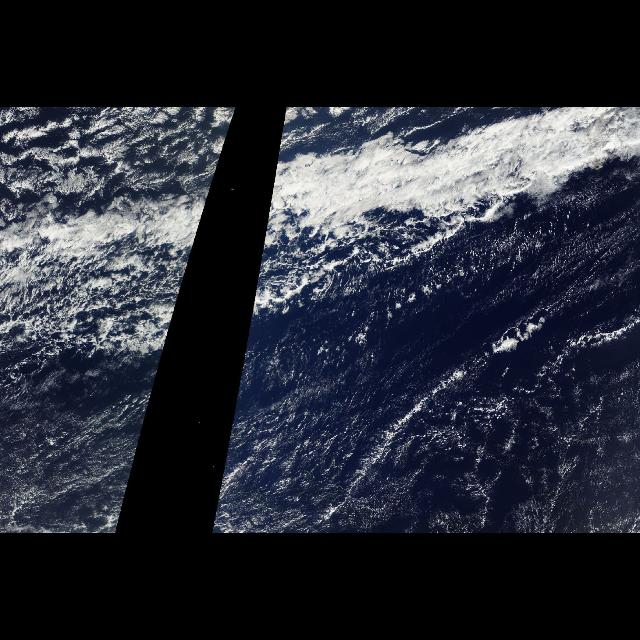Fish: (244, 108, 636, 348), (0, 232, 198, 348)
Flower: (383, 283, 441, 319)
Gravel: (7, 108, 210, 192)
Sugar: (212, 348, 638, 534), (6, 365, 160, 533), (429, 214, 637, 316)
